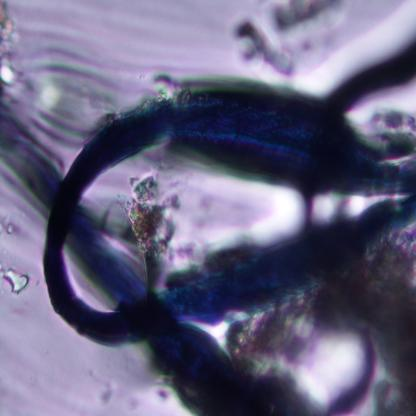Air bubble: (292, 317, 378, 410)
Background material: (232, 0, 347, 73), (20, 74, 108, 137), (124, 171, 178, 271), (0, 0, 31, 104), (375, 110, 416, 150), (89, 380, 122, 412), (0, 208, 23, 247), (4, 266, 30, 297), (154, 384, 170, 403)
Cotton: (42, 84, 416, 345), (0, 108, 309, 416)
